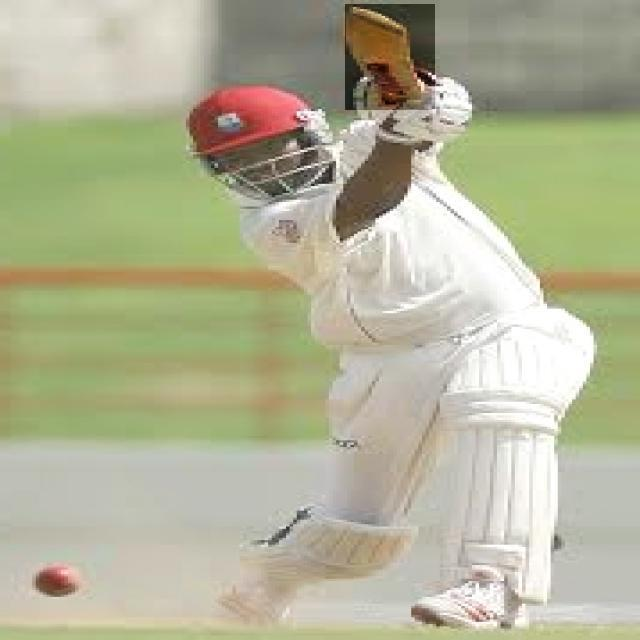bat: (349, 5, 438, 111)
toe: (348, 5, 406, 34)
